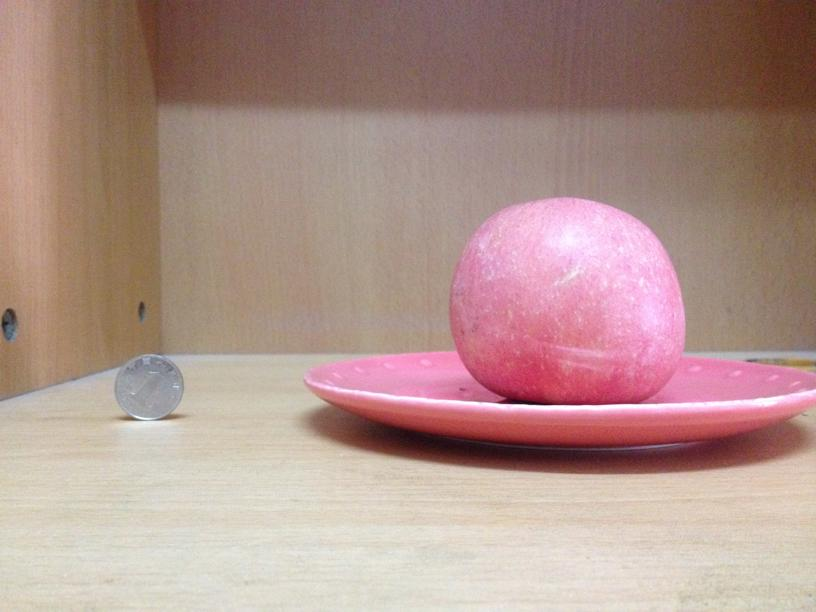apple: (450, 196, 686, 401)
coin: (112, 351, 185, 421)
